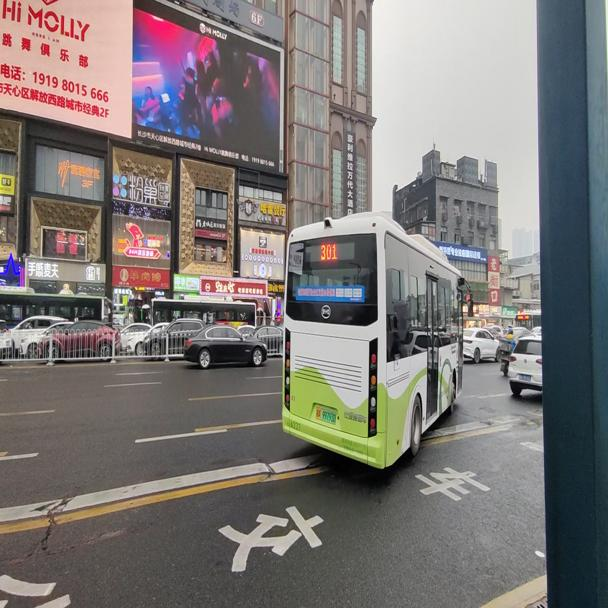bus: (283, 211, 472, 470), (514, 312, 540, 327)
screen: (320, 242, 337, 260)
